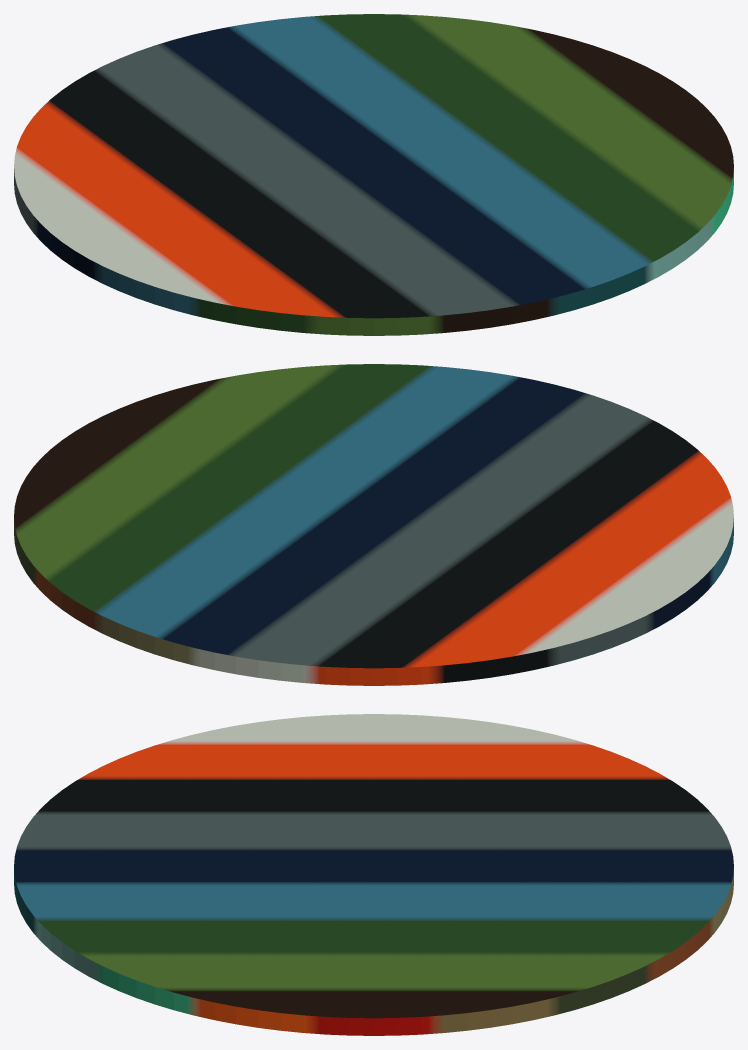
File: SM_MP_Flow_ConcreteFoundation.fbx
3 renders of one model, top to bottom at view 1: azimuth 30°, elevation 25°; view 2: azimuth 150°, elevation 25°; view 3: azimuth 270°, elevation 25°, orthographic.
Parts seen in each view (by area): view 1: SM_MP_Flow_ConcreteFoundation; view 2: SM_MP_Flow_ConcreteFoundation; view 3: SM_MP_Flow_ConcreteFoundation.
Boxes of the visible parts, box(x1,y1,x2,y2) form: SM_MP_Flow_ConcreteFoundation: box(14, 14, 733, 335); SM_MP_Flow_ConcreteFoundation: box(14, 364, 733, 685); SM_MP_Flow_ConcreteFoundation: box(14, 714, 733, 1035).
Bounding box in the file's own units: 4060 × 4060 × 110.
Materials: 1 (1 with a texture image).
